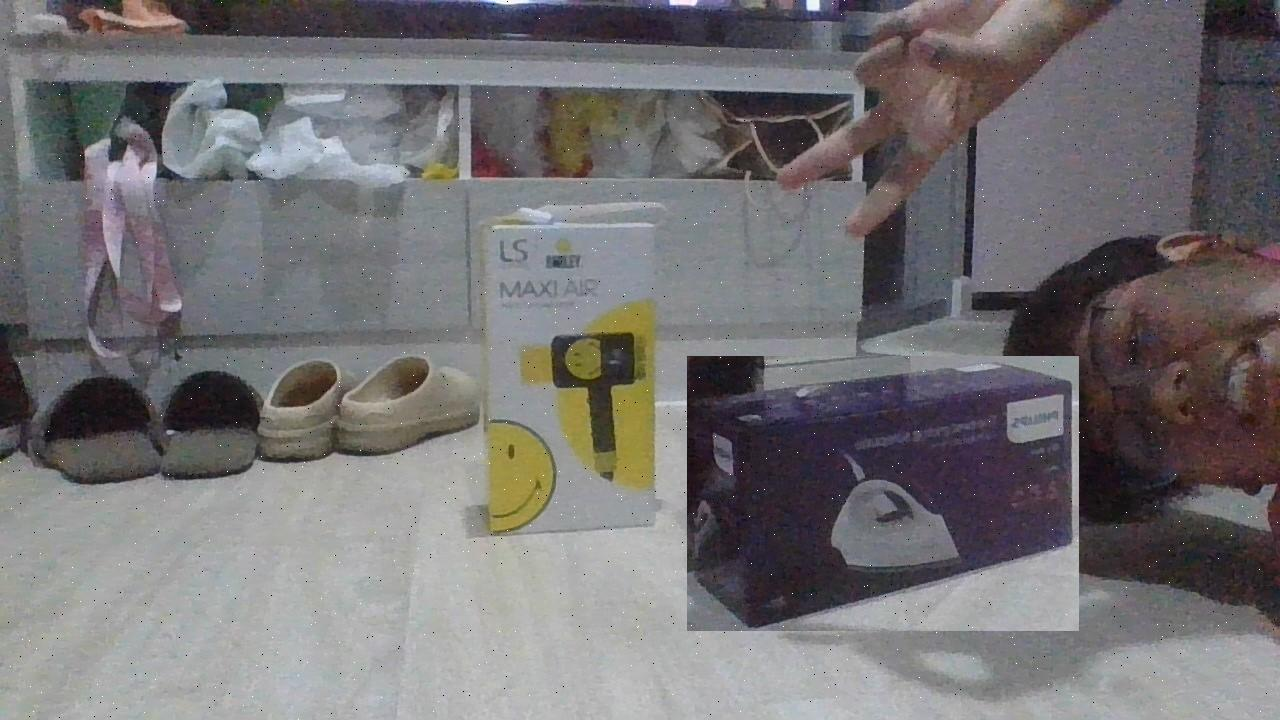Dryer: (474, 206, 666, 538)
IRON: (687, 356, 1079, 631)
